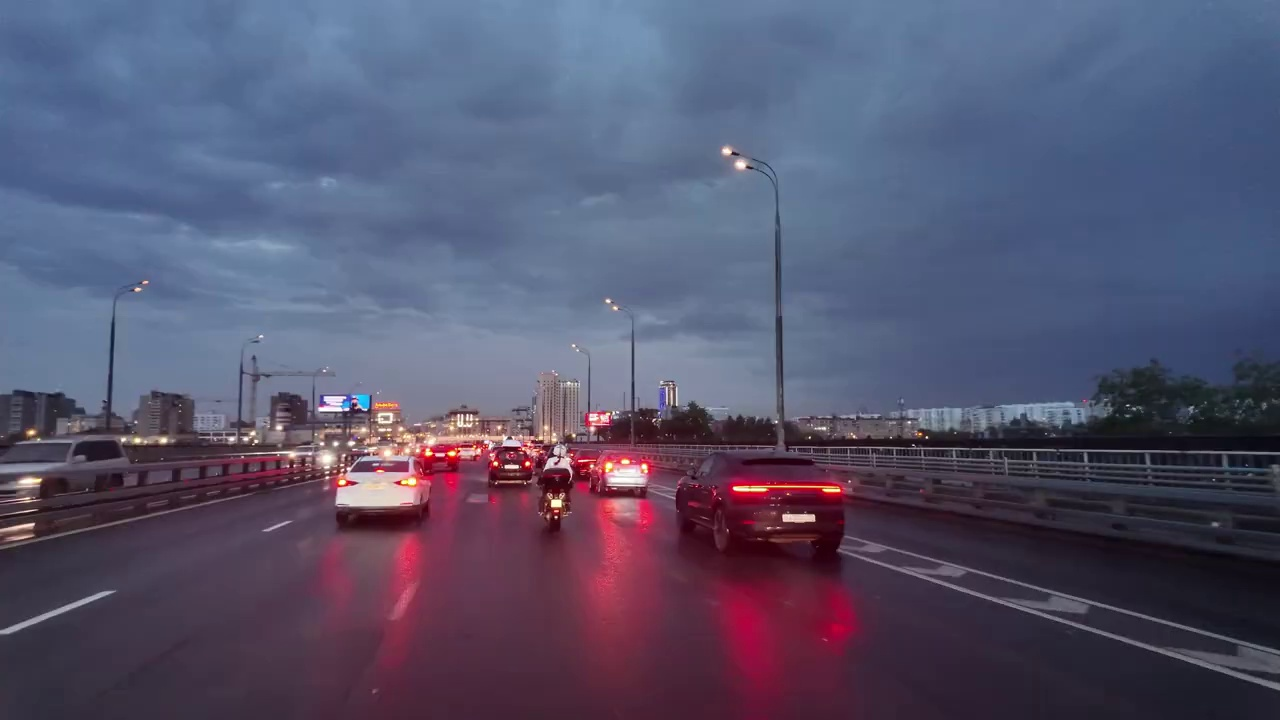acesa: (720, 146, 754, 176)
apagada: (128, 278, 149, 298)
